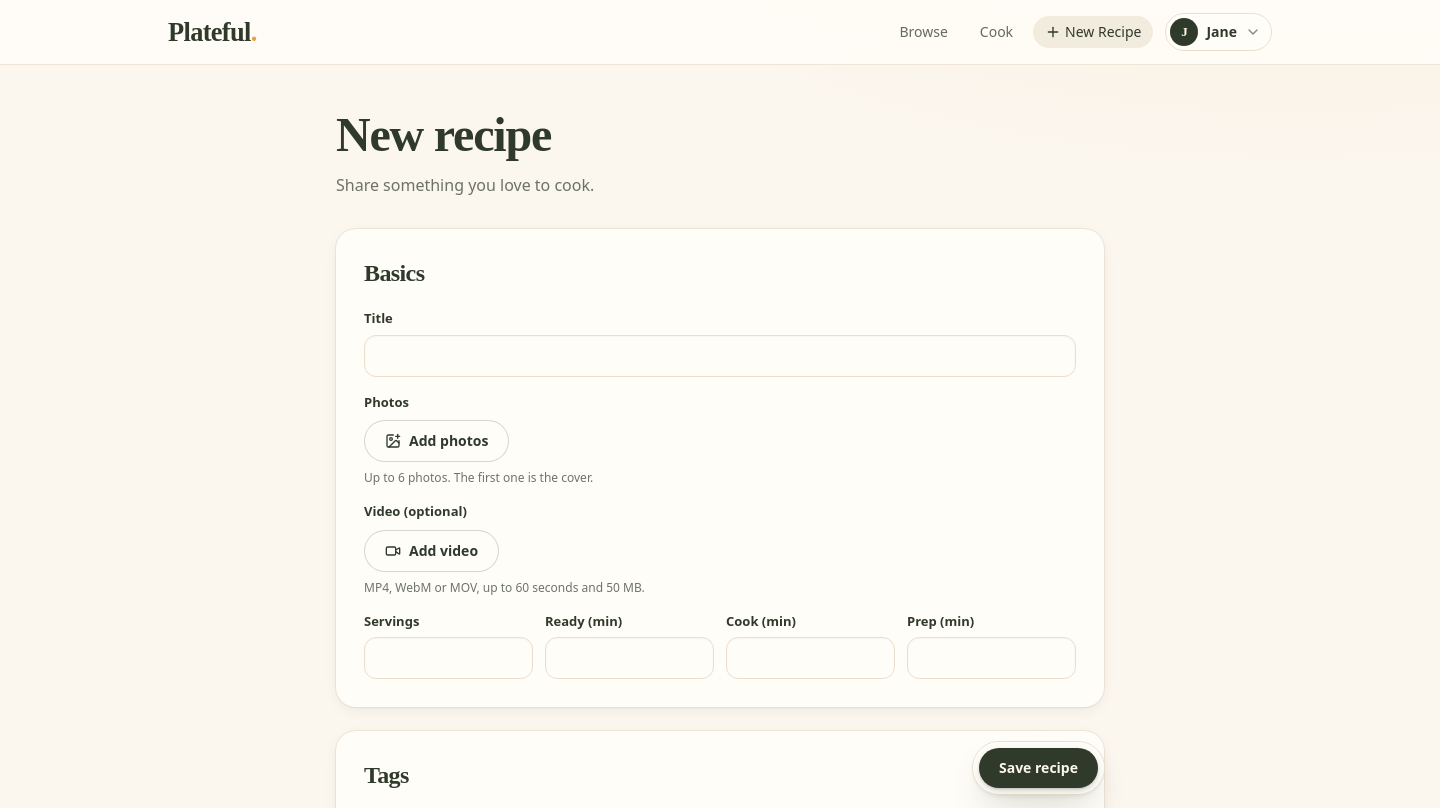
create: fills the form, adds an ingredient row, POSTs, navigates to the new recipe
The width and height of the screenshot is (1440, 808).
Type "My Pie" into the field labelled "Title". click: (720, 356)
box: [364,334,1076,376]
(page scrolled)
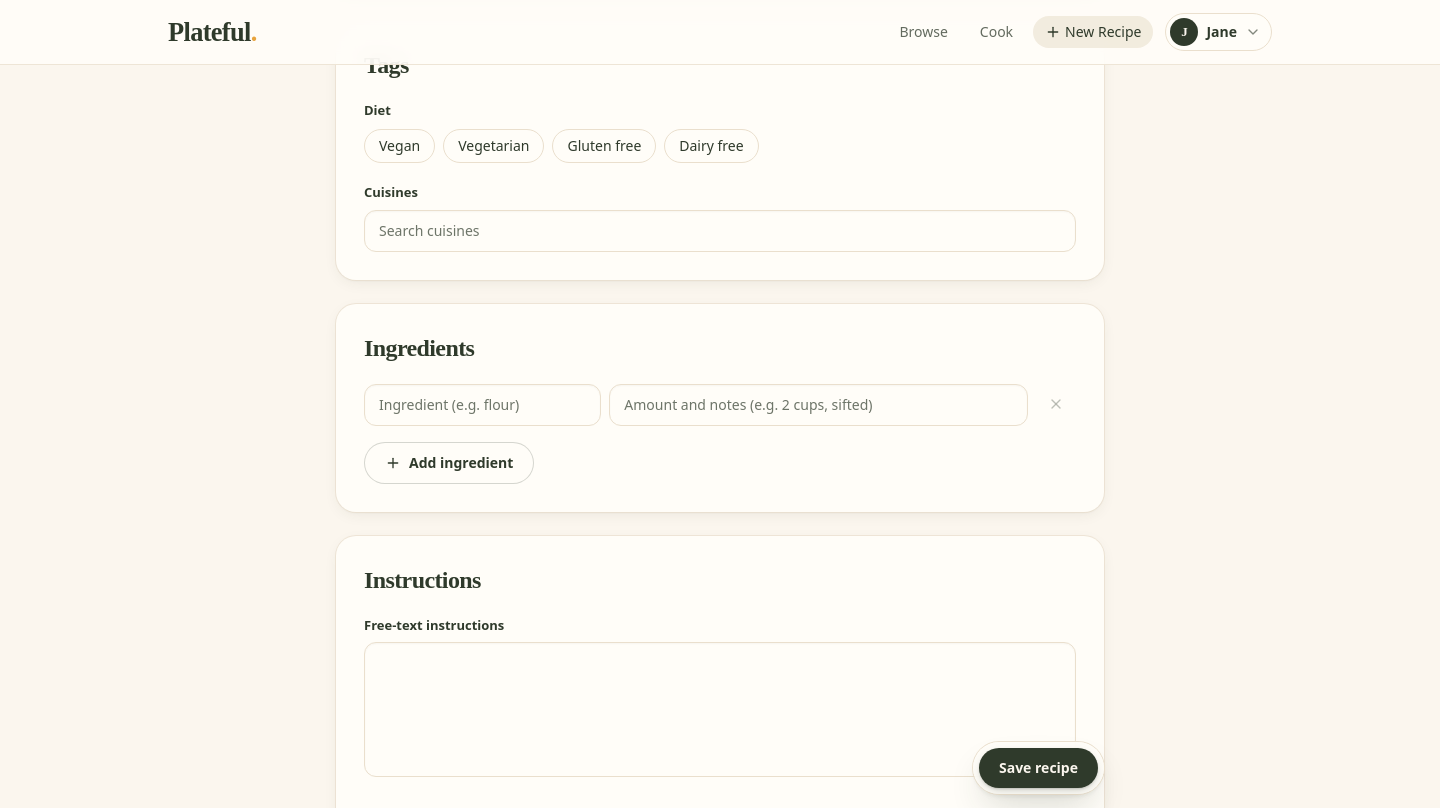
Type "apples" into the field named "Ingredient 1". click: (483, 405)
box: [364,384,601,426]
Type "3 tart apples, sliced" into the field named "Ingredient 1 amount and notes". click: (819, 405)
box: [609,384,1028,426]
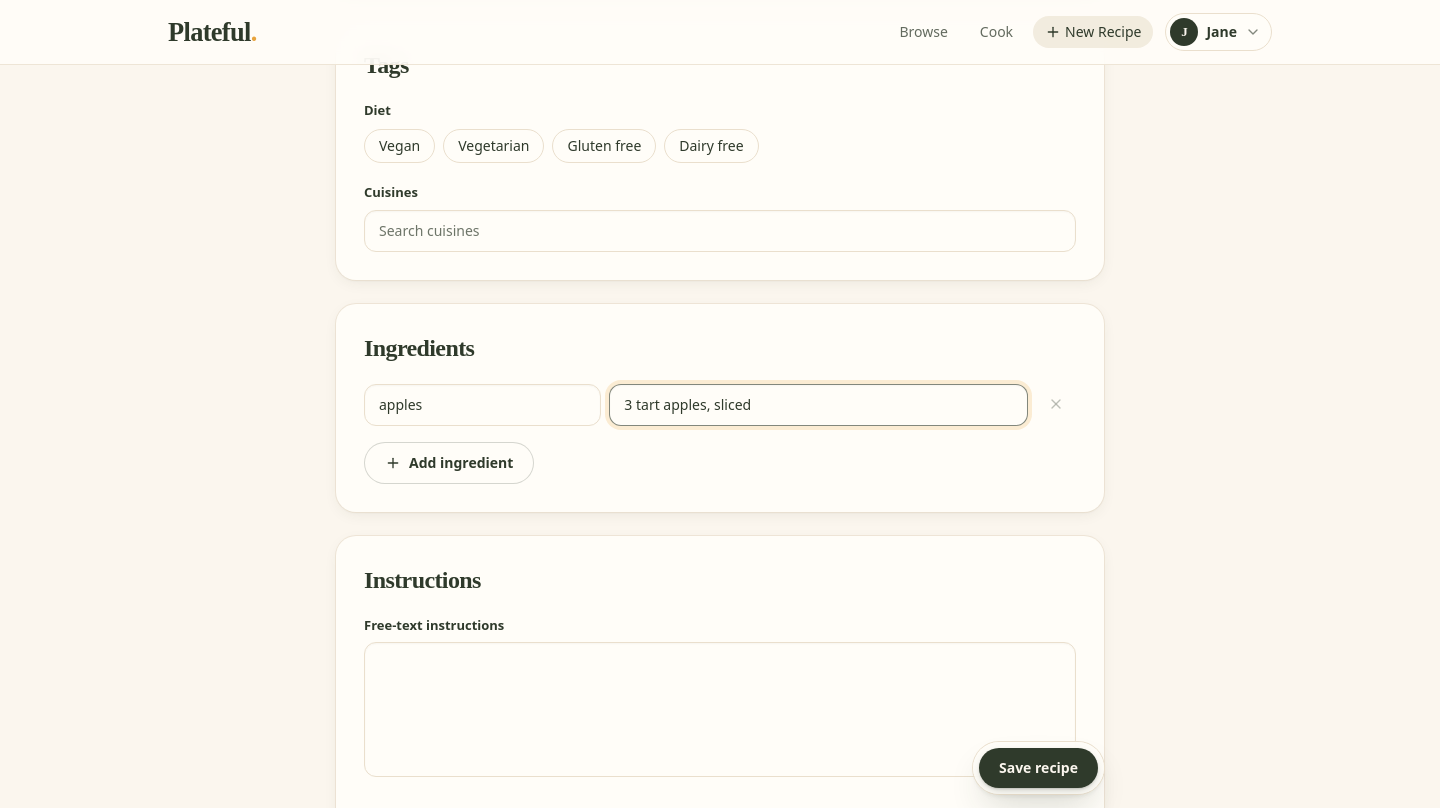
Click the button "Add ingredient". click: (449, 463)
box: [364,442,534,484]
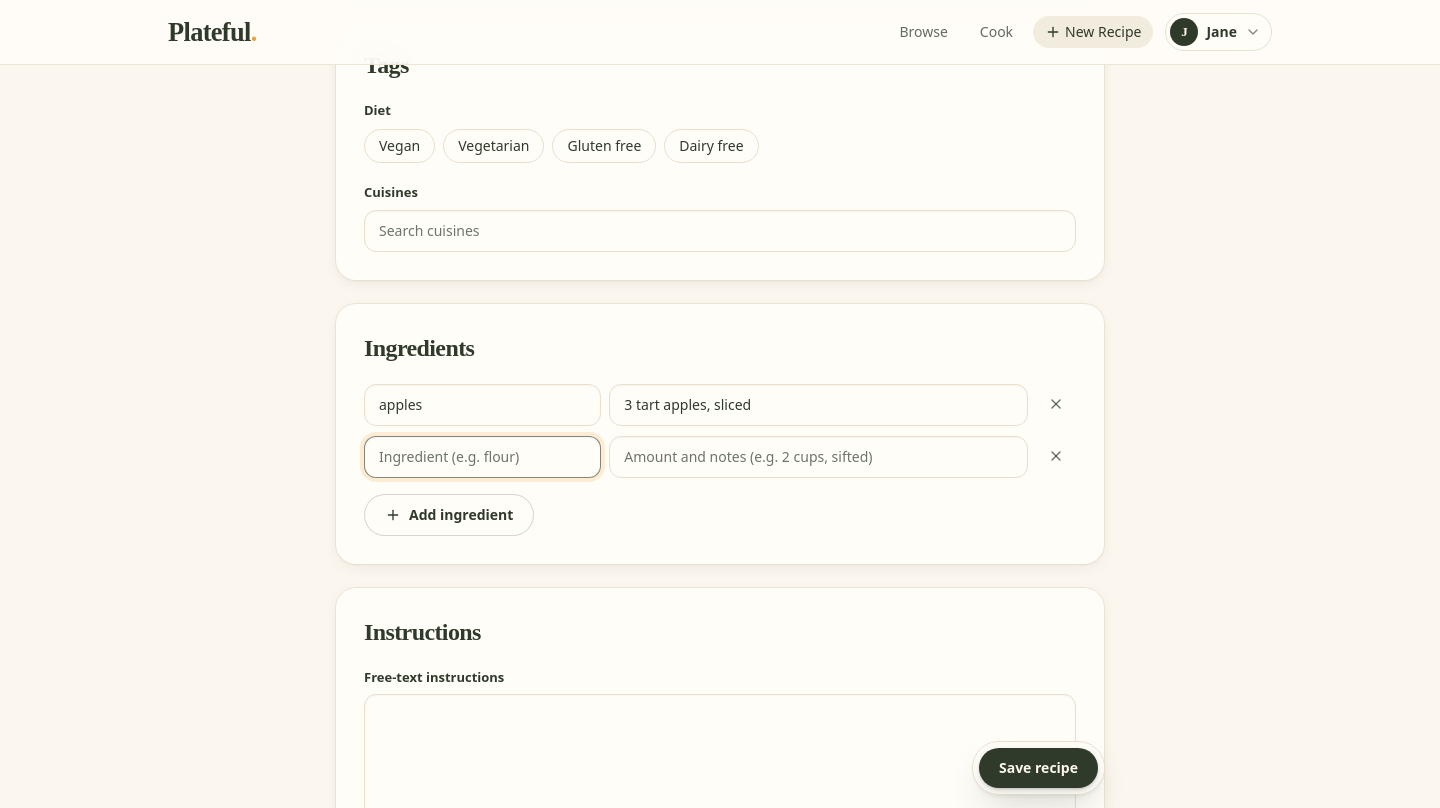
Type "sugar" into the field named "Ingredient 2". click: (483, 457)
box: [364,436,601,478]
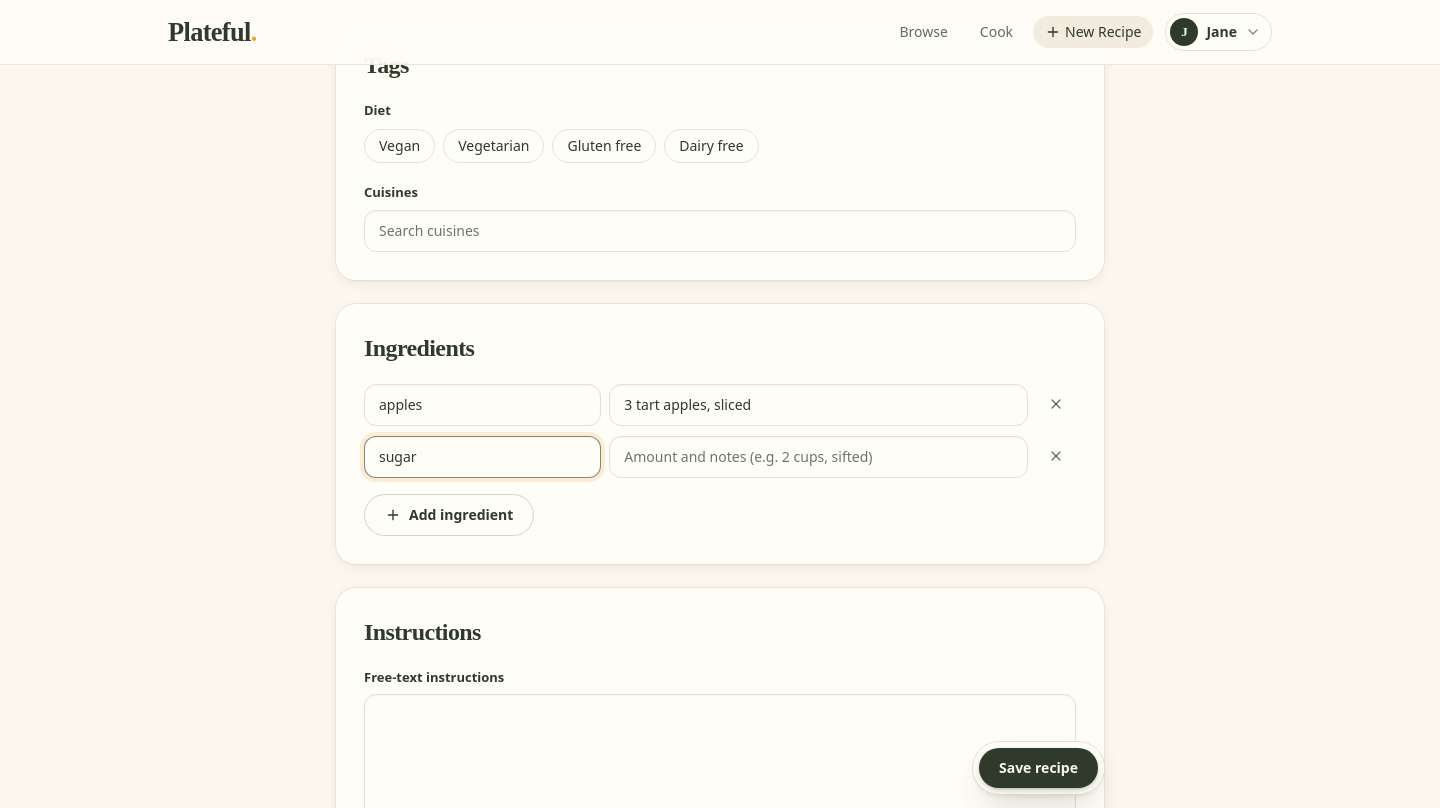
Type "1 cup sugar" into the field named "Ingredient 2 amount and notes". click: (819, 457)
box: [609,436,1028,478]
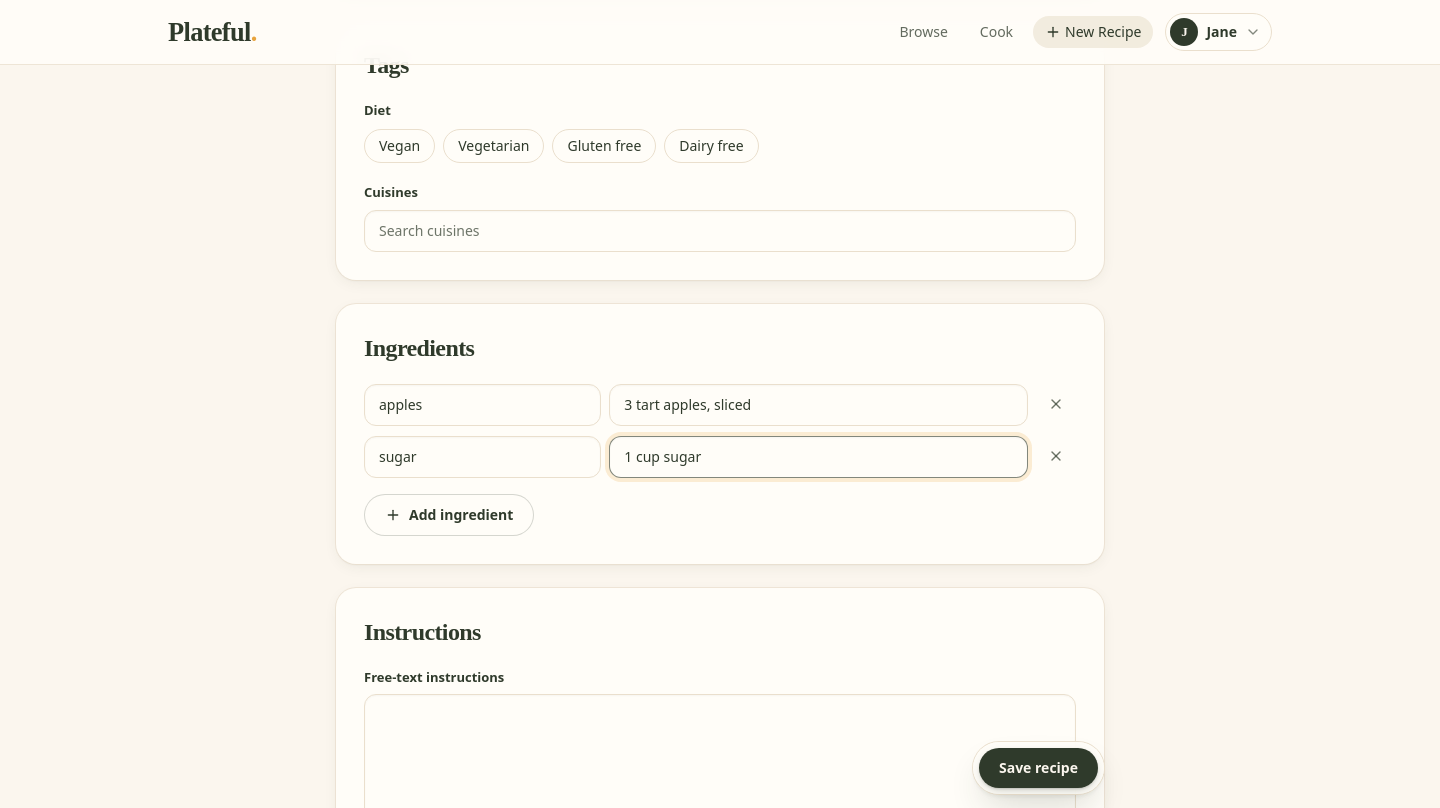
Click the button "Save recipe". click: (1038, 768)
box: [979,748,1098,788]
(page scrolled)
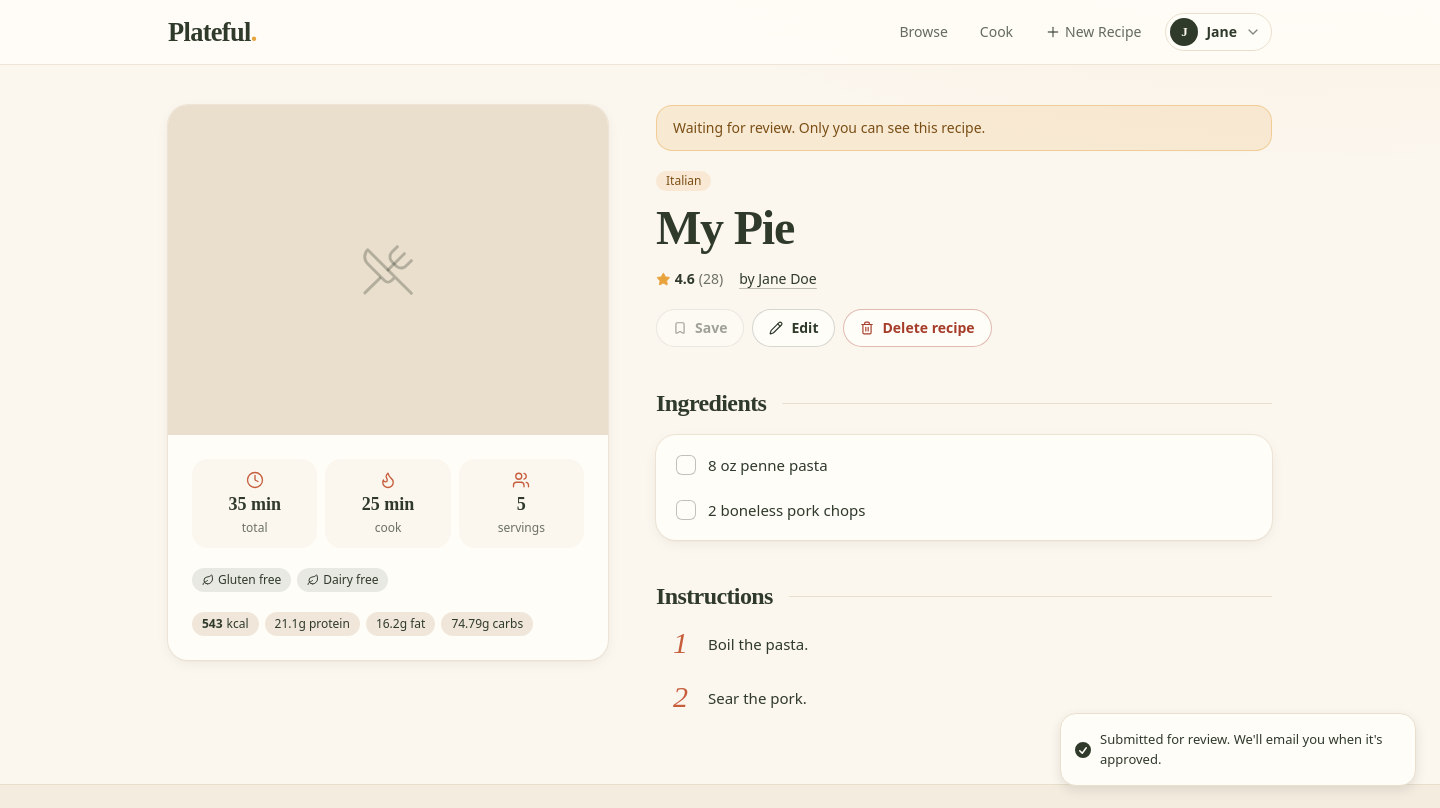
Expected: the heading "My Pie" is shown, [656,201,794,254]
